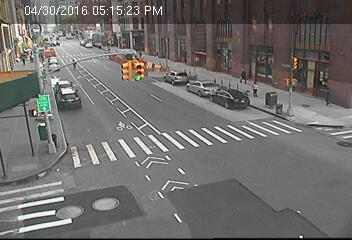neg: (24, 86, 43, 111), (262, 36, 280, 61), (278, 46, 296, 69), (289, 47, 306, 70), (204, 83, 216, 100), (115, 60, 126, 75), (183, 67, 190, 76)
pos: (317, 83, 337, 110), (249, 79, 262, 97), (238, 67, 249, 83)
